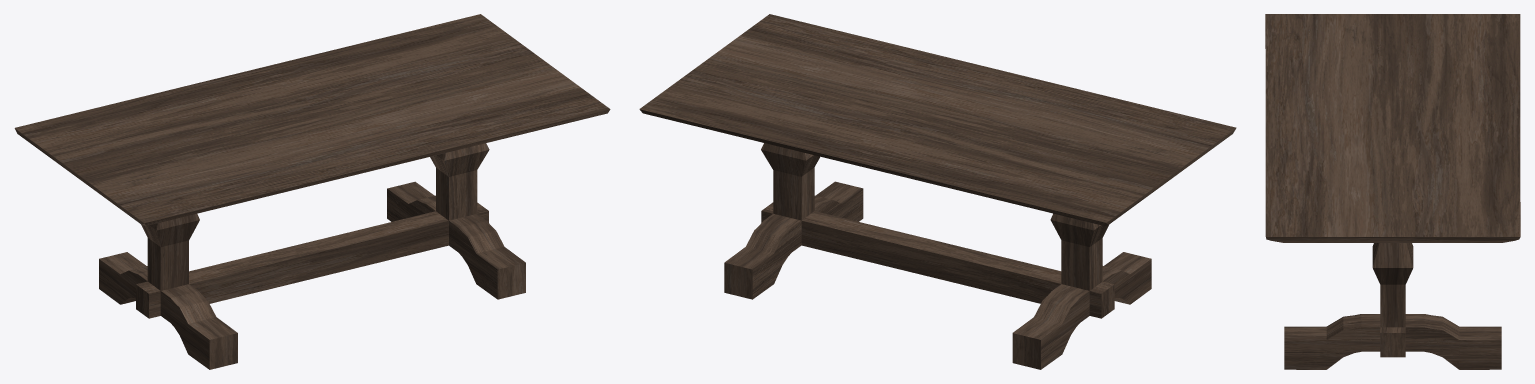
Rendered from mesajantar.fbx.
3 renders of one model, left to right at view 1: azimuth 30°, elevation 25°; view 2: azimuth 150°, elevation 25°; view 3: azimuth 270°, elevation 25°, orthographic. The views are drawn at different scales.
Parts seen in each view (by area): view 1: pCube2, pCube1; view 2: pCube2, pCube1; view 3: pCube2, pCube1.
Part boxes in pixels (x1,y1,x2,y2): pCube2: (14, 14, 610, 225); pCube1: (99, 143, 525, 369); pCube2: (639, 14, 1236, 225); pCube1: (724, 143, 1151, 369); pCube2: (1265, 14, 1520, 242); pCube1: (1284, 243, 1501, 369).
Bounding box in the file's own units: 2.25 × 0.7931 × 1.09.
